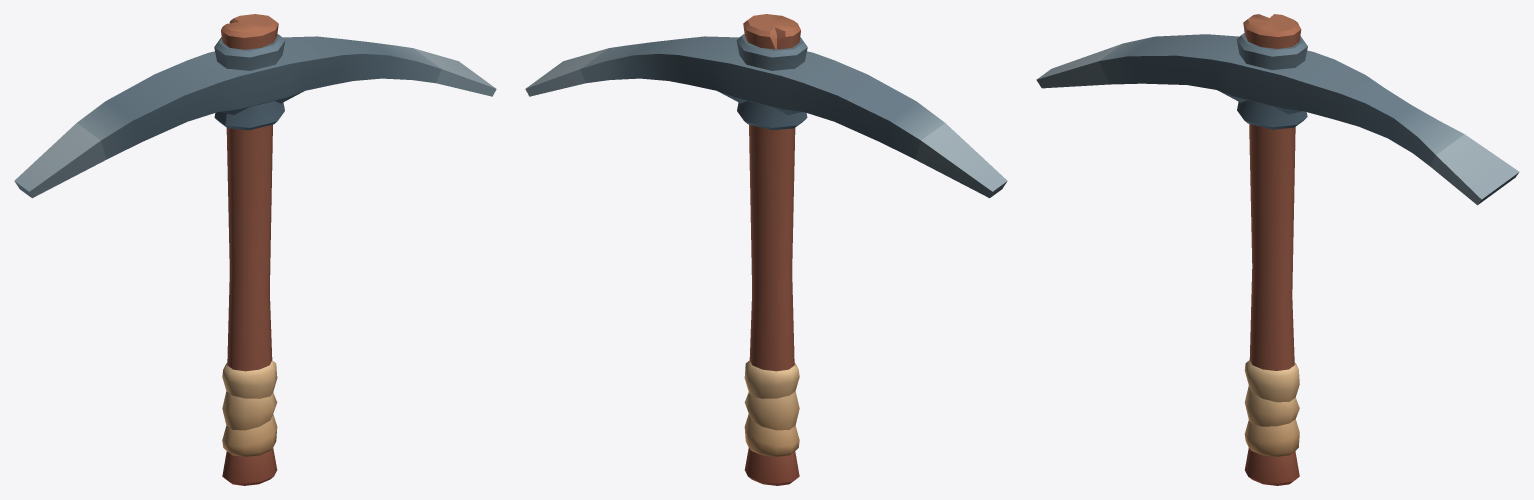
File: pickaxe.obj
3 renders of one model, left to right at view 1: azimuth 30°, elevation 25°; view 2: azimuth 150°, elevation 25°; view 3: azimuth 330°, elevation 25°, orthographic.
Parts seen in each view (by area): view 1: pickaxe; view 2: pickaxe; view 3: pickaxe.
Part boxes in pixels (left/top/right/bottom): pickaxe: left=14, top=14, right=496, bottom=485; pickaxe: left=525, top=14, right=1007, bottom=485; pickaxe: left=1036, top=14, right=1519, bottom=485.
Size of the model in its own units: 1.45 by 1.39 by 0.2084.
1 material, 1 textured.
